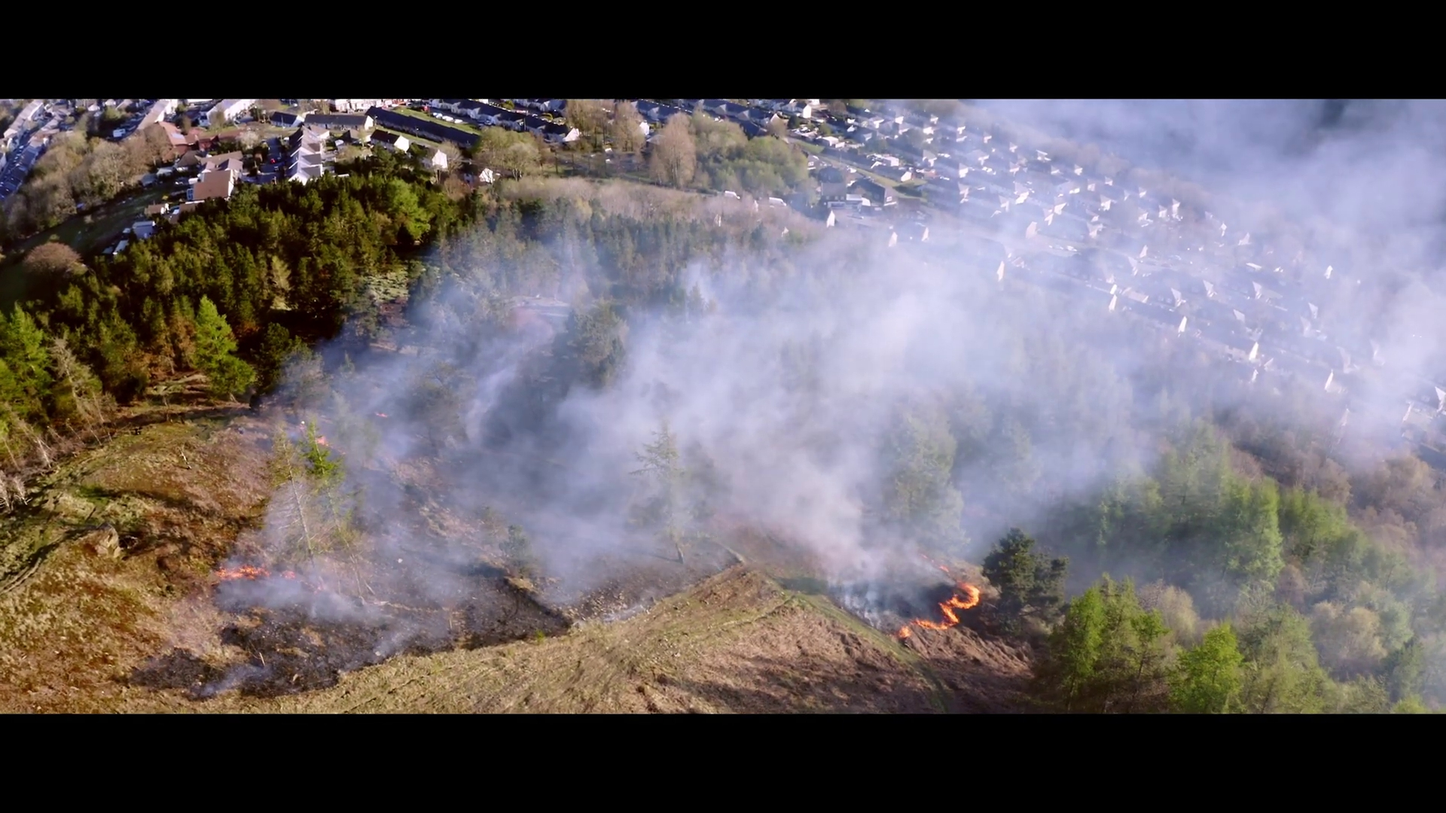forest_fire: (896, 580, 979, 638), (216, 565, 269, 580), (923, 555, 952, 577)
